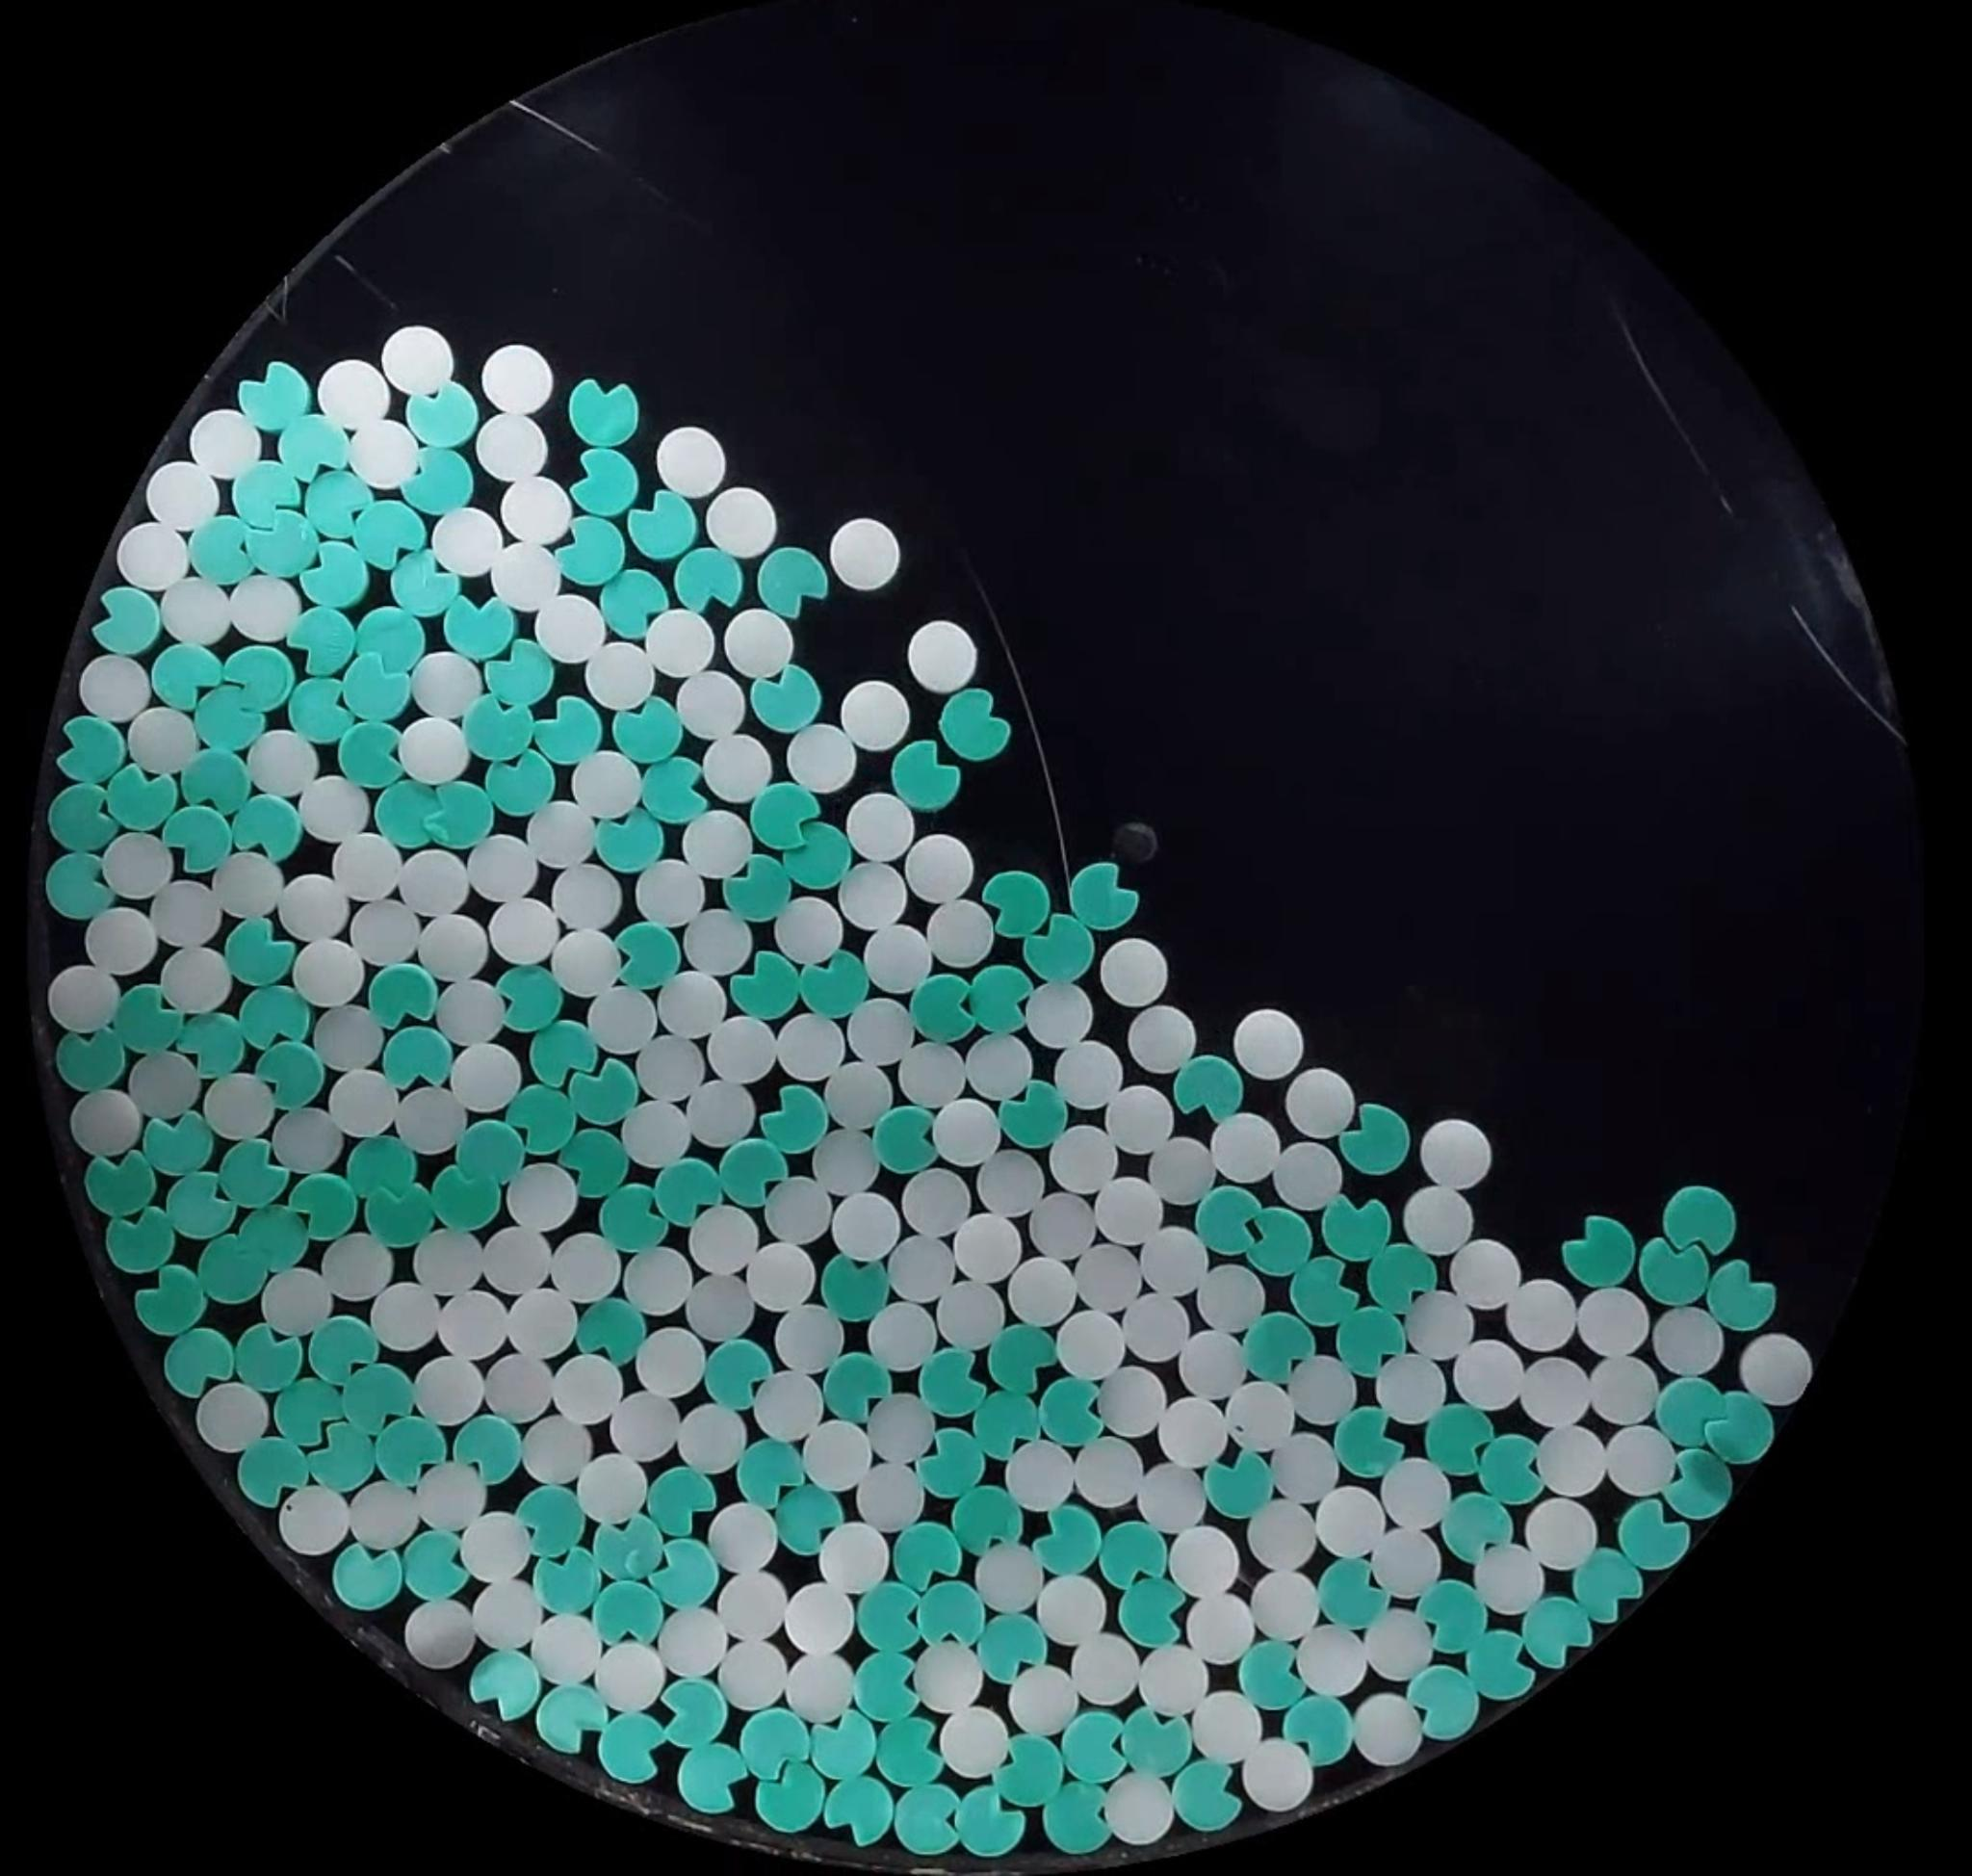no-convexa1: (1113, 1684, 1213, 1784), (208, 1117, 301, 1221), (232, 1423, 331, 1517), (250, 1022, 340, 1122), (889, 1515, 982, 1606), (1231, 1296, 1319, 1390), (1329, 1289, 1417, 1381), (287, 456, 380, 543), (849, 1571, 935, 1665), (872, 1682, 949, 1784), (225, 1187, 313, 1277), (1456, 1606, 1542, 1698), (51, 759, 123, 867), (961, 1379, 1048, 1466), (590, 560, 673, 650), (1278, 1245, 1361, 1335), (1030, 1362, 1111, 1453), (294, 527, 372, 622), (644, 1527, 731, 1612), (1232, 1201, 1312, 1293), (988, 1326, 1072, 1411), (912, 1414, 997, 1499), (694, 1330, 784, 1409), (643, 1462, 727, 1545), (143, 1161, 229, 1240), (301, 1307, 387, 1386), (167, 997, 245, 1085), (576, 1511, 664, 1589), (801, 1707, 889, 1784), (1187, 1177, 1262, 1267), (1650, 1448, 1741, 1522), (364, 1416, 460, 1487), (229, 358, 315, 435), (486, 627, 563, 713), (187, 687, 276, 761), (1470, 1427, 1556, 1503), (725, 846, 799, 934), (227, 632, 301, 719), (521, 1013, 600, 1092), (743, 1436, 822, 1515), (977, 1608, 1053, 1691), (132, 1106, 218, 1178), (850, 1626, 923, 1712), (558, 1043, 637, 1120), (361, 1182, 442, 1258), (905, 1346, 990, 1416), (1023, 1494, 1093, 1578), (824, 1346, 898, 1425), (276, 662, 349, 743), (62, 1022, 130, 1106), (349, 1131, 419, 1212), (453, 1413, 526, 1488), (1662, 1184, 1738, 1258), (1562, 1214, 1636, 1289), (549, 1115, 625, 1189), (1697, 1393, 1780, 1460), (535, 1682, 609, 1756), (1440, 1490, 1514, 1564), (1655, 1376, 1731, 1448), (940, 687, 1012, 763), (243, 507, 319, 580), (759, 1085, 831, 1161), (312, 1420, 384, 1496), (502, 1082, 572, 1159), (632, 752, 710, 823), (468, 1649, 541, 1723), (134, 1263, 206, 1337), (1338, 1103, 1410, 1177), (1620, 1499, 1692, 1573), (556, 514, 629, 588), (1366, 1240, 1440, 1312), (197, 1235, 271, 1307), (90, 585, 164, 657), (222, 918, 294, 992), (1571, 1548, 1641, 1624), (1171, 1760, 1243, 1832), (232, 793, 305, 865), (1319, 1557, 1391, 1629), (463, 692, 535, 764), (232, 462, 305, 534), (238, 981, 310, 1053), (1407, 1663, 1479, 1735), (86, 1148, 158, 1221), (287, 604, 359, 676), (113, 983, 185, 1055), (454, 1119, 526, 1191), (757, 546, 829, 618), (627, 490, 699, 562), (1706, 1261, 1778, 1333), (331, 1543, 405, 1614), (401, 446, 475, 516), (342, 650, 412, 724), (1241, 1635, 1306, 1714), (597, 1710, 667, 1783), (951, 1483, 1021, 1555), (1424, 1404, 1495, 1476), (430, 1161, 502, 1231), (1521, 1596, 1592, 1668), (1322, 1194, 1393, 1267), (718, 1136, 789, 1208), (775, 1483, 845, 1555), (1204, 1448, 1275, 1520), (998, 1078, 1069, 1150), (181, 745, 254, 816), (289, 1171, 361, 1242), (106, 763, 176, 835), (893, 740, 965, 810), (55, 715, 127, 786), (162, 803, 234, 874), (391, 548, 463, 618), (1099, 1520, 1167, 1594), (916, 1578, 986, 1649), (1333, 1407, 1403, 1478), (750, 782, 820, 853), (232, 1321, 303, 1392), (354, 497, 424, 567), (44, 851, 114, 921), (653, 1157, 724, 1228), (782, 819, 852, 890), (754, 1762, 824, 1832), (164, 1326, 234, 1397), (1284, 1695, 1354, 1765), (798, 949, 868, 1020), (673, 544, 743, 615), (424, 780, 495, 851), (1118, 1575, 1187, 1647), (592, 1580, 664, 1649), (150, 641, 222, 710), (530, 696, 602, 764), (750, 666, 822, 735), (407, 382, 479, 451), (444, 594, 516, 662), (569, 379, 641, 447), (1414, 1577, 1483, 1649), (741, 1709, 810, 1779), (872, 1104, 940, 1175), (613, 921, 683, 990), (678, 1742, 747, 1813), (657, 1677, 727, 1746), (993, 1737, 1062, 1807), (956, 1786, 1025, 1857), (1062, 1710, 1130, 1781), (403, 1533, 472, 1603), (356, 606, 426, 675), (731, 953, 801, 1022), (1071, 861, 1139, 932), (342, 1367, 412, 1436), (278, 414, 350, 481), (505, 1487, 578, 1554), (599, 1184, 667, 1252), (894, 1786, 963, 1855), (495, 962, 563, 1030), (578, 1296, 646, 1365), (1023, 914, 1092, 983), (572, 446, 641, 514), (104, 1207, 173, 1275), (1641, 1238, 1710, 1307), (826, 1776, 893, 1846), (368, 962, 438, 1029), (613, 698, 683, 764), (188, 514, 255, 585), (338, 719, 405, 789), (382, 1023, 453, 1090), (375, 779, 442, 849), (965, 964, 1032, 1032), (822, 1256, 891, 1323), (1044, 1784, 1111, 1853), (1173, 1053, 1241, 1120), (484, 752, 555, 817), (984, 870, 1049, 935), (287, 1363, 338, 1446), (917, 976, 979, 1043), (525, 1550, 581, 1617), (602, 810, 657, 874)
